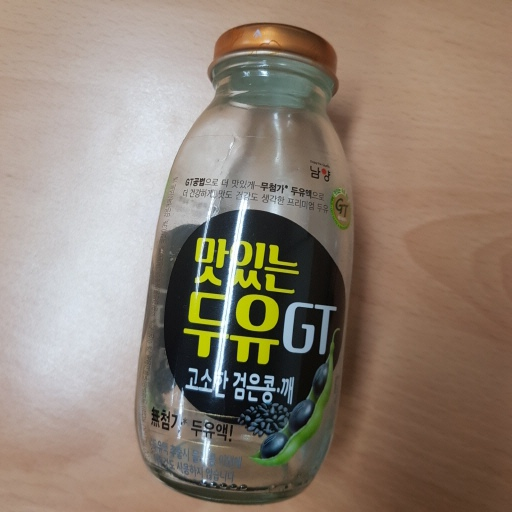Glass_4: (133, 22, 356, 493)
